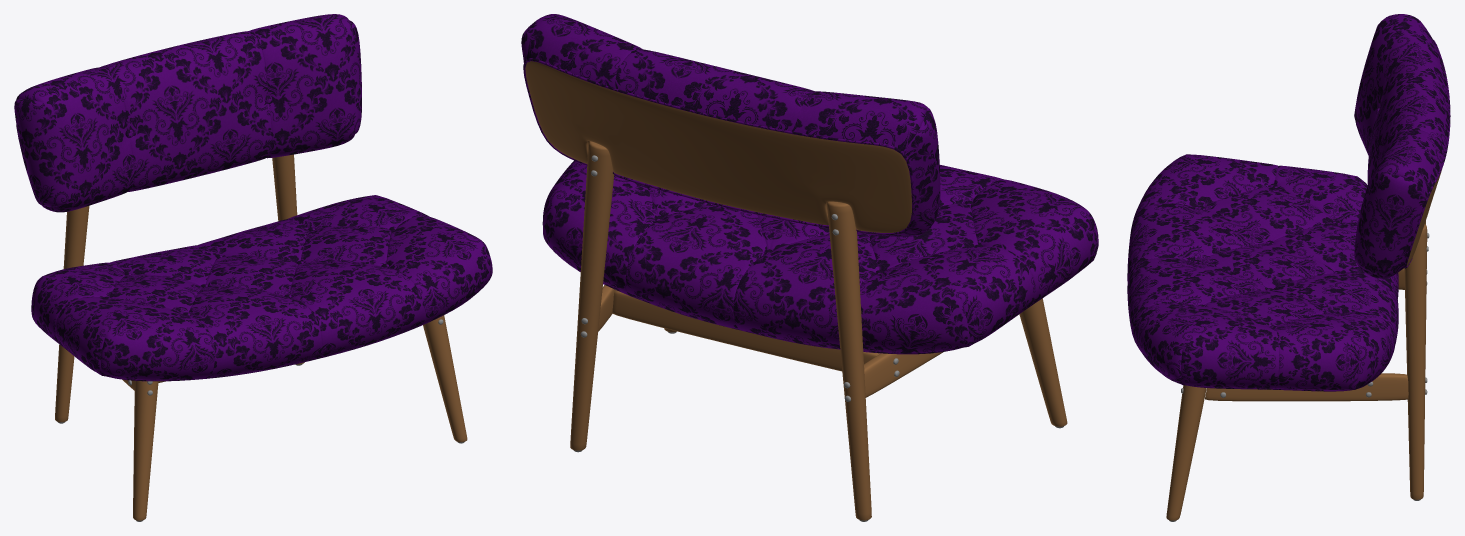
File: SheenDamask.gltf
3 renders of one model, left to right at view 1: azimuth 30°, elevation 25°; view 2: azimuth 150°, elevation 25°; view 3: azimuth 270°, elevation 25°, orthographic. The views are drawn at different scales.
Visible parts, largest first — view 1: oval-tufted-chair_seat-fabric, oval-tufted-chair_back-fabric, oval-tufted-chair_legs-frame; view 2: oval-tufted-chair_seat-fabric, oval-tufted-chair_back-panel, oval-tufted-chair_legs-frame, oval-tufted-chair_back-fabric, oval-tufted-chair_back-welt; view 3: oval-tufted-chair_seat-fabric, oval-tufted-chair_back-fabric, oval-tufted-chair_legs-frame, oval-tufted-chair_back-welt, oval-tufted-chair_back-panel.
Boxes of the visible parts, left/top/right/bottom form: oval-tufted-chair_seat-fabric: left=31, top=195, right=492, bottom=380; oval-tufted-chair_back-fabric: left=14, top=14, right=361, bottom=212; oval-tufted-chair_legs-frame: left=55, top=154, right=467, bottom=520; oval-tufted-chair_seat-fabric: left=542, top=160, right=1098, bottom=353; oval-tufted-chair_back-panel: left=525, top=61, right=911, bottom=232; oval-tufted-chair_legs-frame: left=570, top=141, right=1067, bottom=520; oval-tufted-chair_back-fabric: left=521, top=14, right=940, bottom=236; oval-tufted-chair_back-welt: left=523, top=58, right=914, bottom=234; oval-tufted-chair_seat-fabric: left=1127, top=154, right=1398, bottom=389; oval-tufted-chair_back-fabric: left=1354, top=14, right=1449, bottom=278; oval-tufted-chair_legs-frame: left=1166, top=221, right=1427, bottom=520; oval-tufted-chair_back-welt: left=1404, top=40, right=1450, bottom=268; oval-tufted-chair_back-panel: left=1406, top=170, right=1441, bottom=265.
Bounding box in the file's own units: 32.54 × 27.02 × 22.45.
